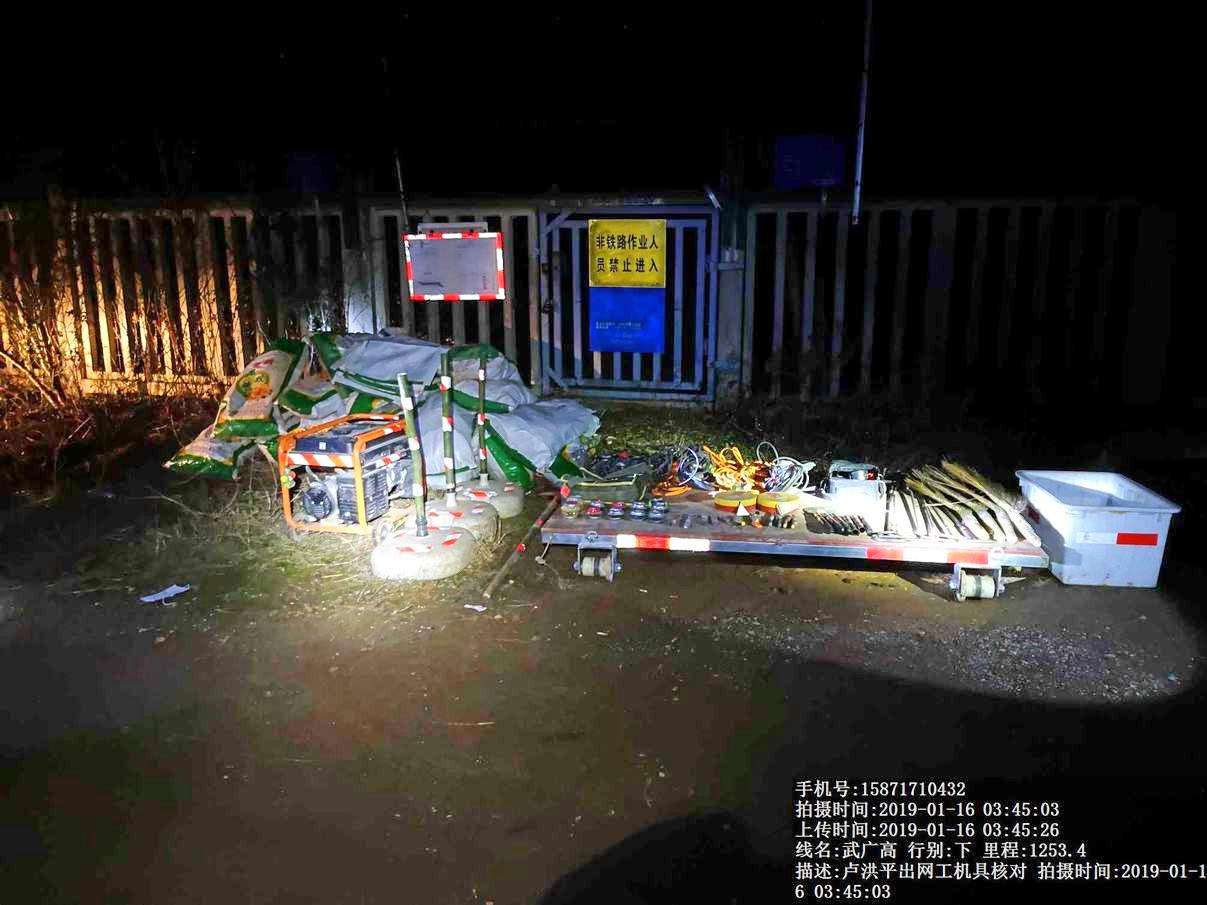DJ: (279, 409, 407, 537)
DX: (764, 442, 814, 490), (702, 443, 743, 488)
GJB: (818, 445, 886, 502), (566, 463, 648, 501)
JC: (707, 487, 759, 519), (756, 486, 808, 516)
SB: (949, 458, 1044, 544)
ST: (373, 380, 479, 585)
T: (1019, 458, 1179, 593)
